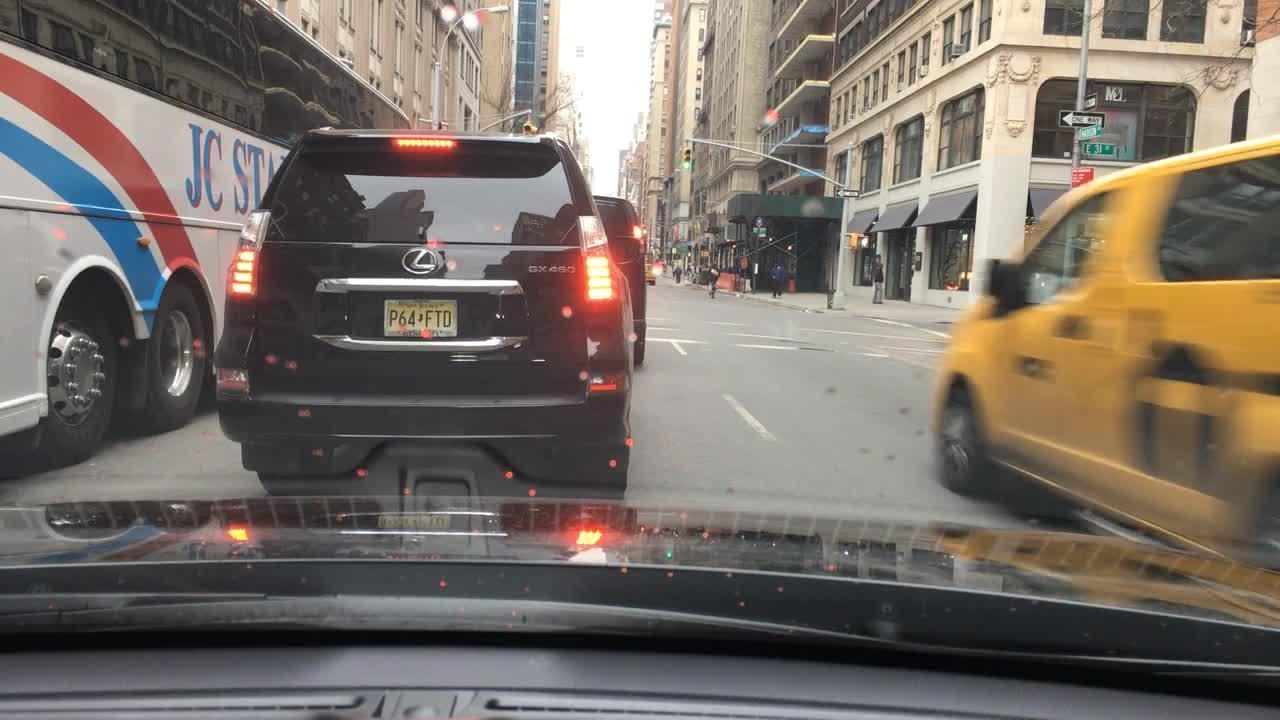lexus: (395, 235, 450, 283)
